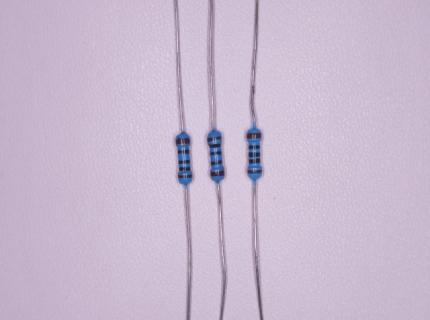Black band: (177, 149, 190, 154), (211, 160, 223, 165), (210, 150, 222, 155), (209, 143, 221, 148), (249, 158, 261, 163), (179, 160, 190, 165), (249, 152, 260, 157), (179, 167, 191, 171), (248, 145, 260, 149)
Brown band: (246, 133, 262, 139), (207, 136, 222, 142), (175, 138, 190, 144), (210, 170, 224, 176), (178, 174, 193, 179), (247, 169, 262, 174)
